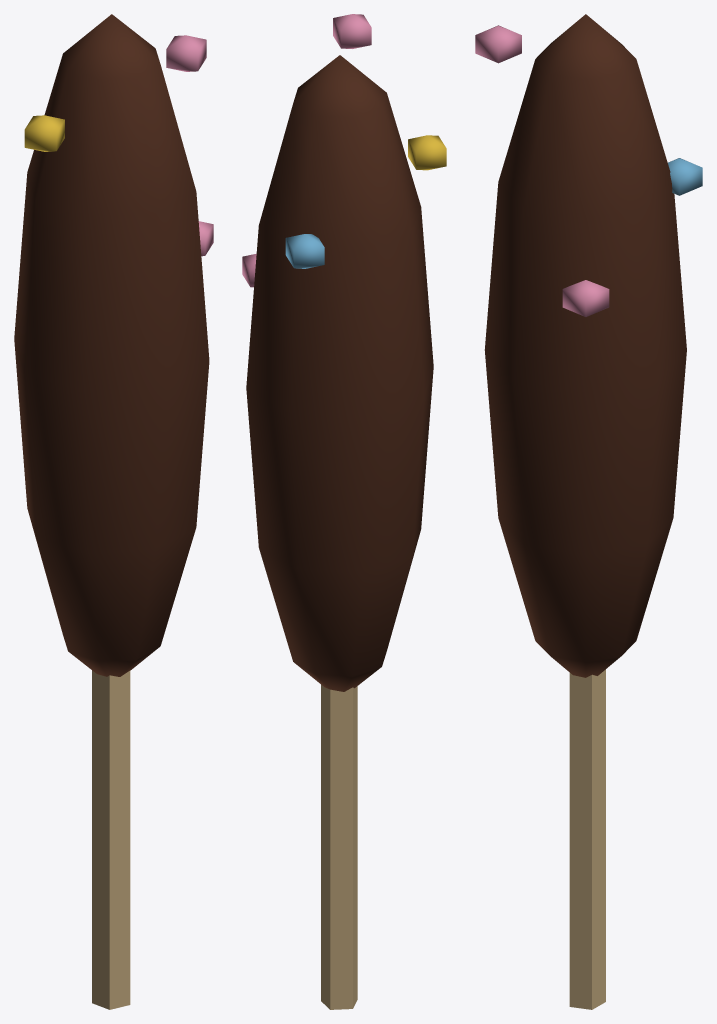
Rendered from item_chocobanana.glb.
The picture shows the model from 3 angles, left to right: view 1: azimuth 30°, elevation 25°; view 2: azimuth 150°, elevation 25°; view 3: azimuth 270°, elevation 25°; orthographic projection. The views are drawn at different scales.
Parts seen in each view (by area): view 1: item_chocobanana; view 2: item_chocobanana; view 3: item_chocobanana.
Part boxes in pixels (x1,y1,x2,y2): item_chocobanana: (14, 14, 213, 1009); item_chocobanana: (242, 14, 446, 1009); item_chocobanana: (475, 14, 702, 1009).
Bounding box in the file's own units: 0.0689 × 0.3244 × 0.0675.
